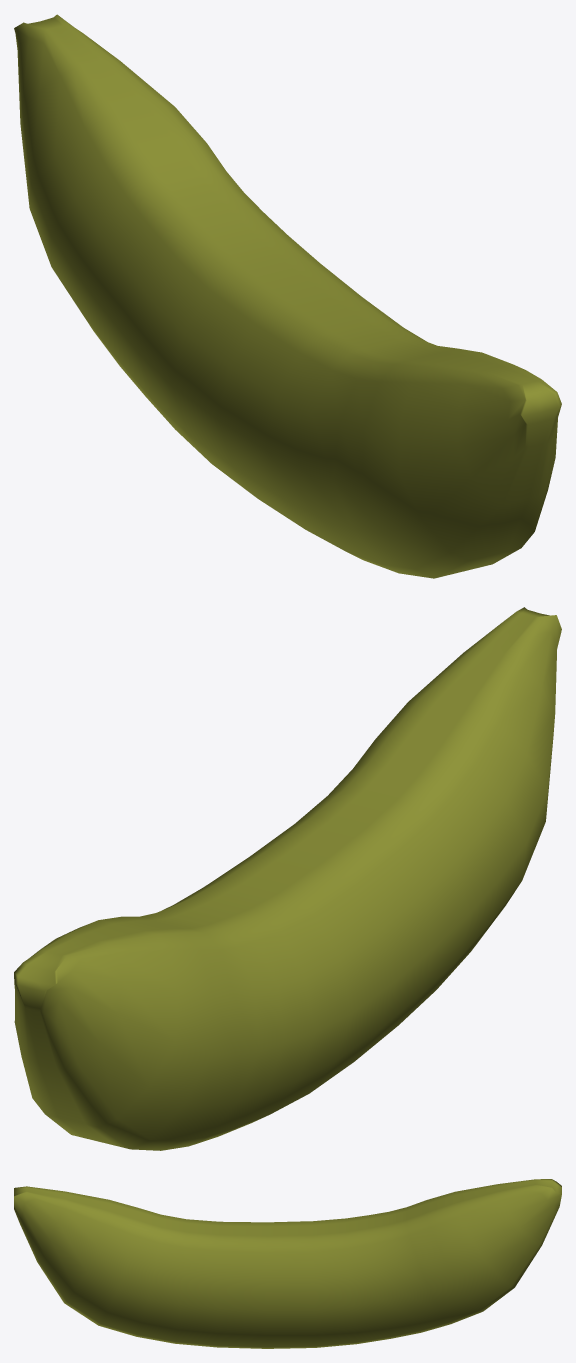
File: Banana.fbx
3 renders of one model, top to bottom at view 1: azimuth 30°, elevation 25°; view 2: azimuth 150°, elevation 25°; view 3: azimuth 270°, elevation 25°, orthographic. The views are drawn at different scales.
Visible parts, largest first — view 1: pCube1; view 2: pCube1; view 3: pCube1.
Part boxes in pixels (left/top/right/bottom): pCube1: left=14, top=14, right=561, bottom=578; pCube1: left=14, top=607, right=561, bottom=1150; pCube1: left=14, top=1179, right=561, bottom=1348.
Bounding box in the file's own units: 0.96 × 1.44 × 4.55.
